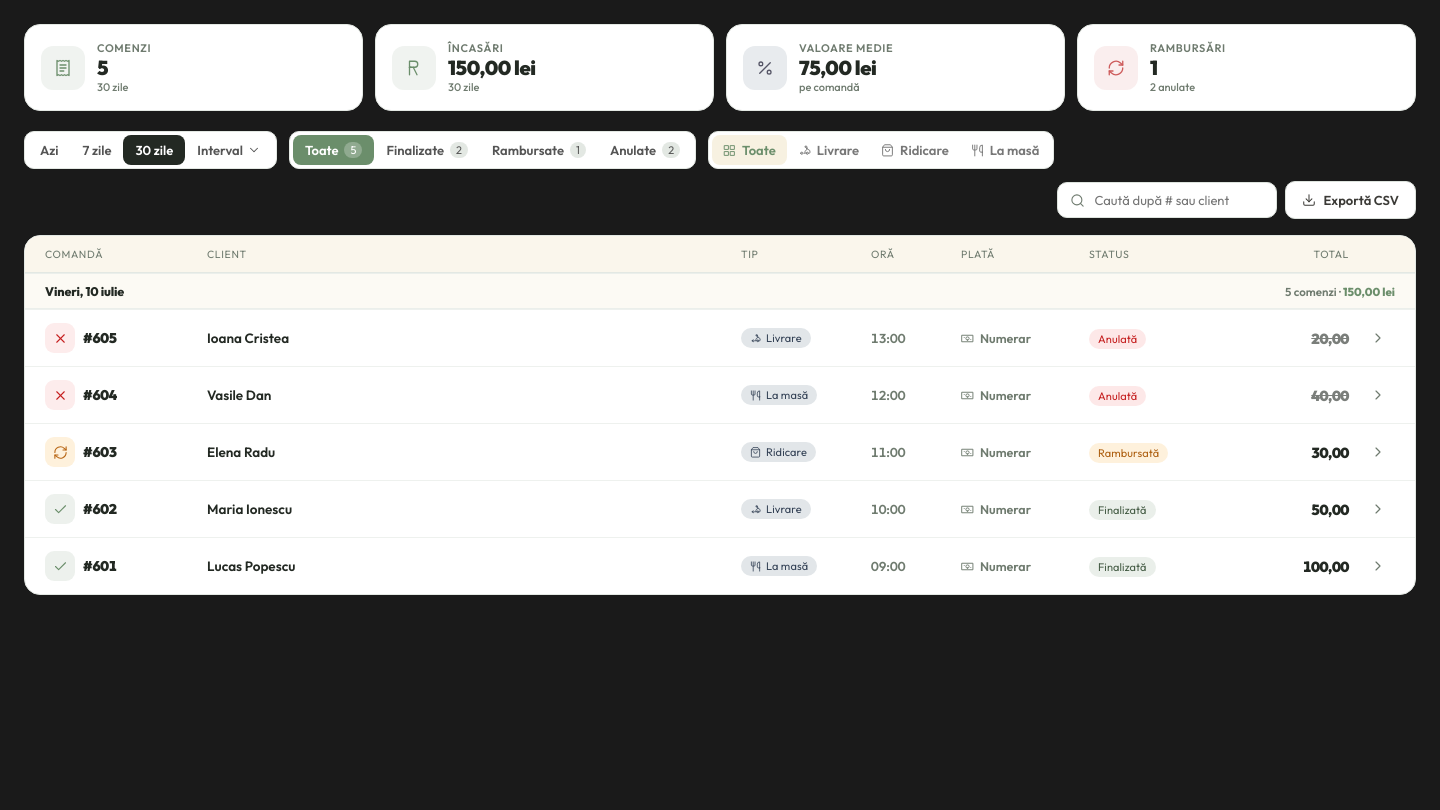
Phase 10 integration — faceting, debounce, filtered recompute, empty-state variants › D-02: selecting Completed leaves the Canceled and Refunded pills showing their true non-zero counts, not 0
Click the button "Finalizate 2". click: (427, 150)
box: x1=374 y1=135 x2=480 y2=165
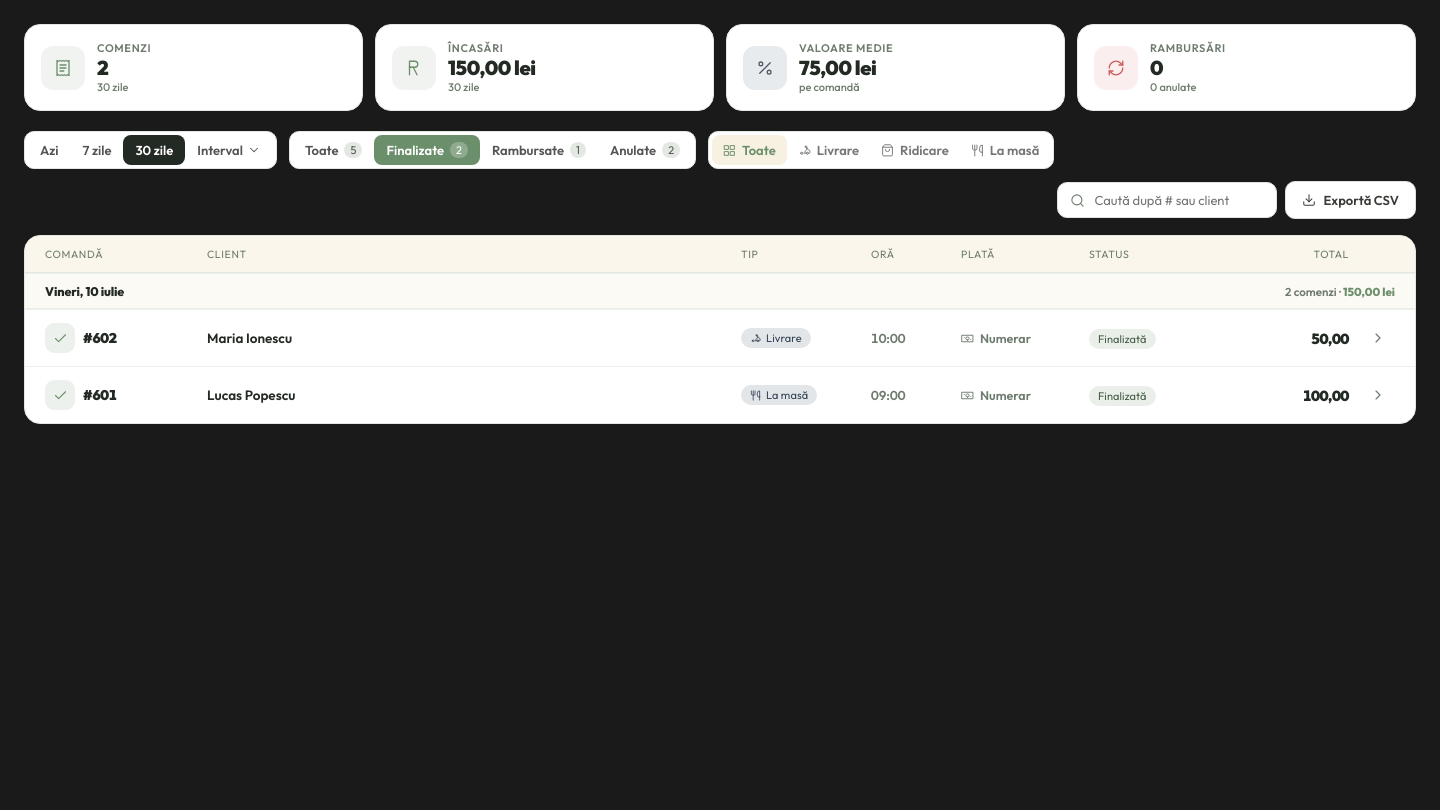
Expected: the number of elements with test id "history-row" is 2, x1=25 y1=309 x2=1415 y2=366; x1=25 y1=366 x2=1415 y2=423
